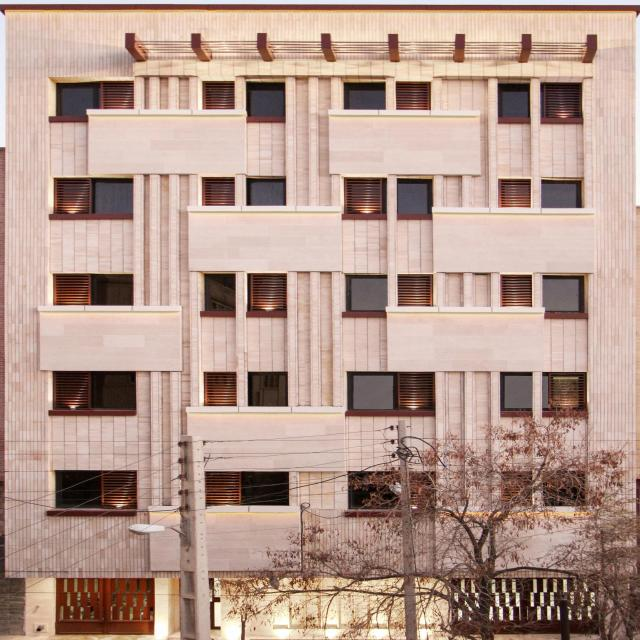door: (56, 577, 152, 635)
window: (347, 471, 397, 509), (543, 82, 585, 121), (353, 372, 398, 408), (100, 469, 139, 508), (241, 472, 287, 505), (248, 273, 289, 310), (53, 177, 92, 215), (96, 371, 137, 407), (58, 474, 102, 507), (53, 371, 91, 409), (548, 469, 588, 505), (92, 180, 136, 212), (543, 277, 584, 311), (248, 83, 290, 115), (400, 374, 436, 410), (59, 80, 98, 113), (206, 470, 241, 506), (52, 274, 89, 308), (97, 275, 135, 307), (353, 277, 391, 309), (503, 371, 535, 407), (552, 375, 584, 410), (251, 373, 287, 404), (206, 371, 237, 406), (501, 178, 535, 209), (203, 274, 233, 309), (400, 180, 432, 212), (400, 80, 433, 111), (502, 273, 532, 307), (99, 80, 135, 108), (250, 177, 290, 202), (544, 180, 581, 207), (400, 275, 432, 306), (349, 84, 389, 108), (500, 86, 532, 116), (205, 81, 236, 110), (205, 177, 235, 205)
